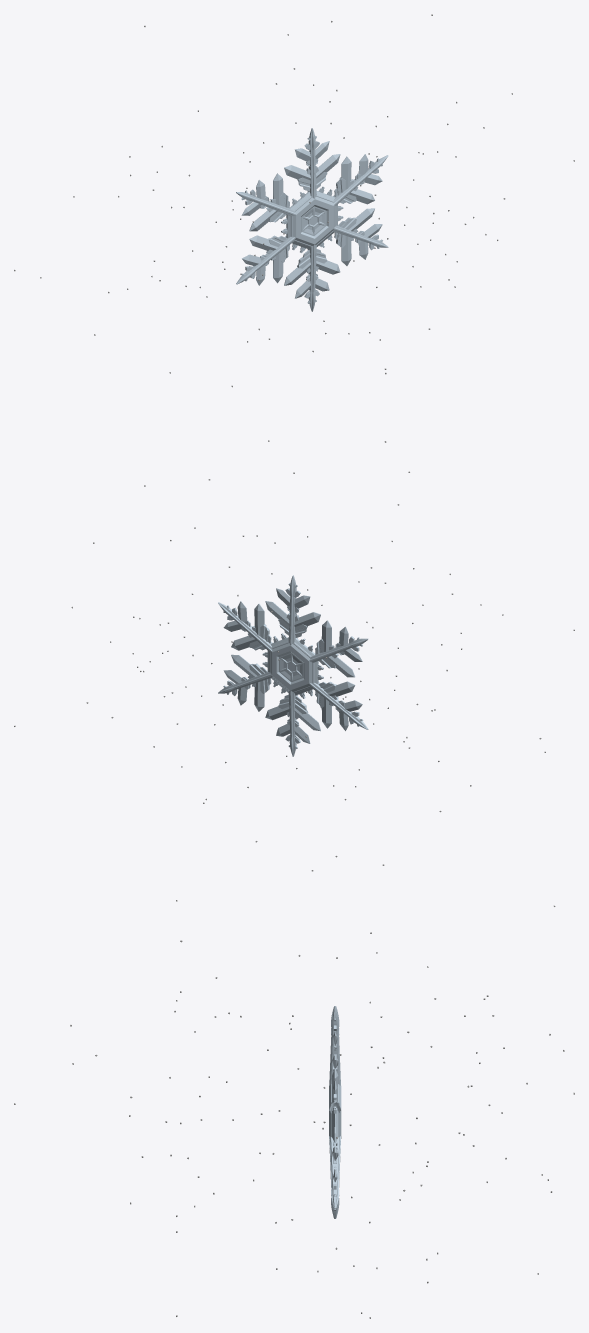
File: Snowflake Sketchfab.fbx
3 renders of one model, top to bottom at view 1: azimuth 30°, elevation 25°; view 2: azimuth 150°, elevation 25°; view 3: azimuth 270°, elevation 25°, orthographic. The views are drawn at different scales.
Parts seen in each view (by area): view 1: Snowflake; view 2: Snowflake; view 3: Snowflake.
Part boxes in pixels (x1=…): Snowflake: x1=14, y1=14, x2=574, y2=442; Snowflake: x1=14, y1=471, x2=574, y2=871; Snowflake: x1=14, y1=900, x2=574, y2=1318.
Bounding box in the file's own units: 1423 × 1040 × 1359.
